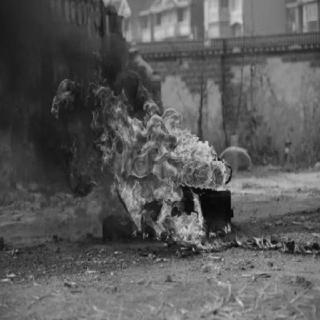Fire: (233, 228, 316, 258)
Smoke: (64, 20, 128, 68)
